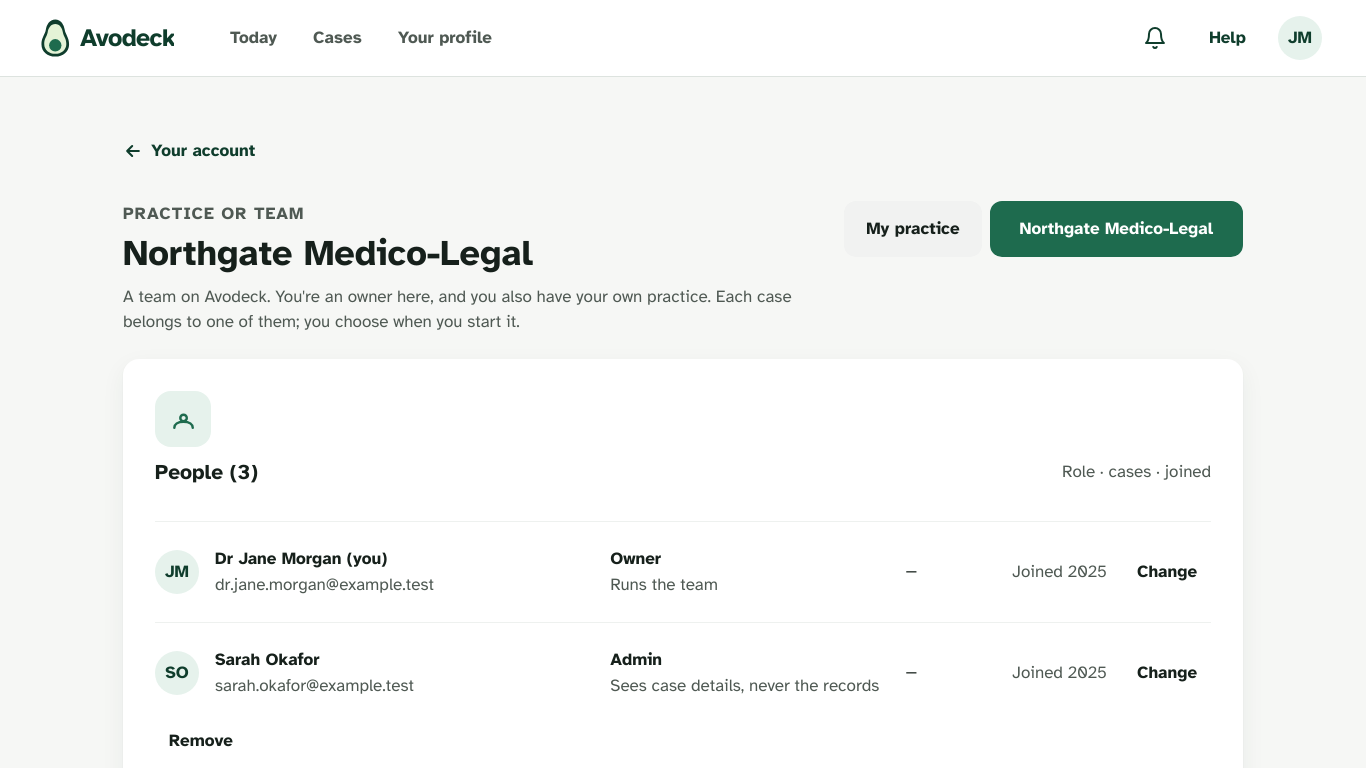
Test: removing a person asks first
Click the button with aria-label "Remove Sarah Okafor" at coordinates (201, 741), box [155,715,247,767]
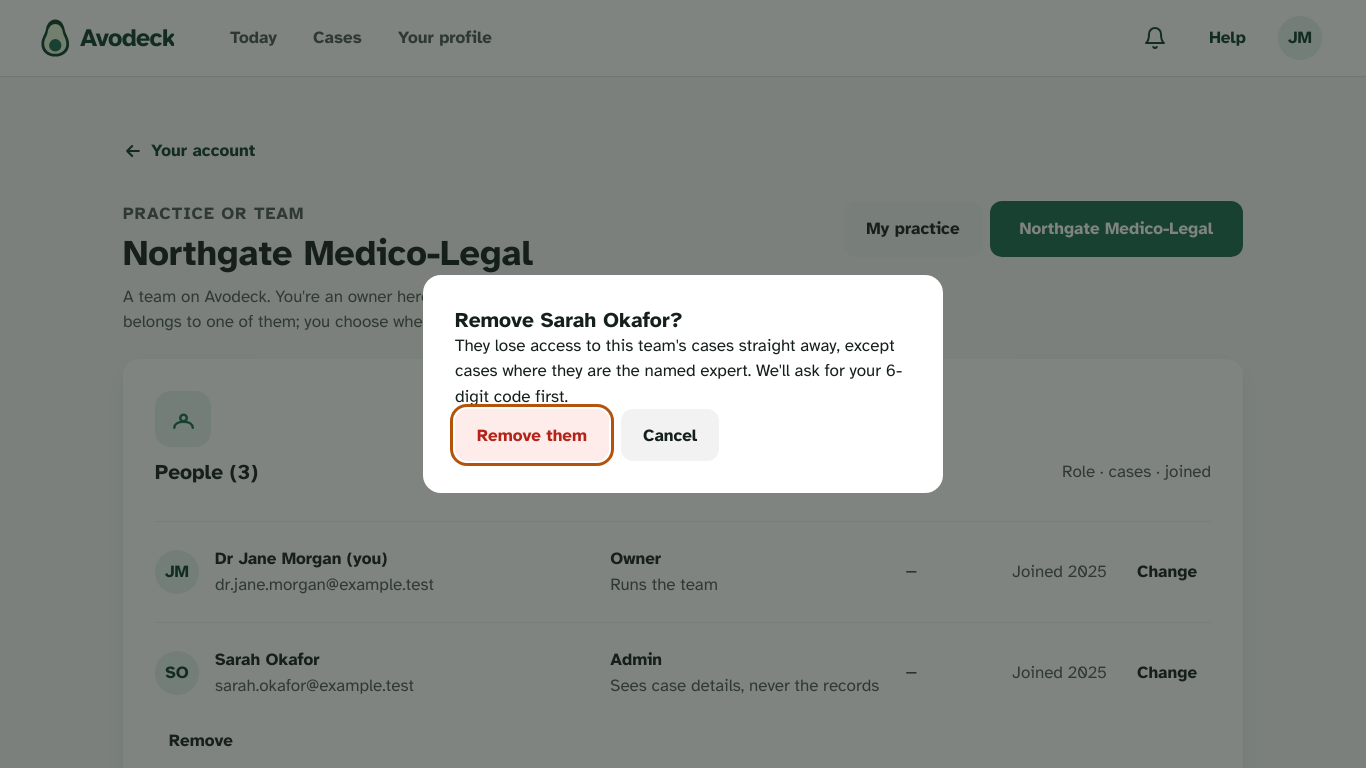
Click the button "Remove them" at coordinates (532, 435), box [455,409,609,461]
(page scrolled)
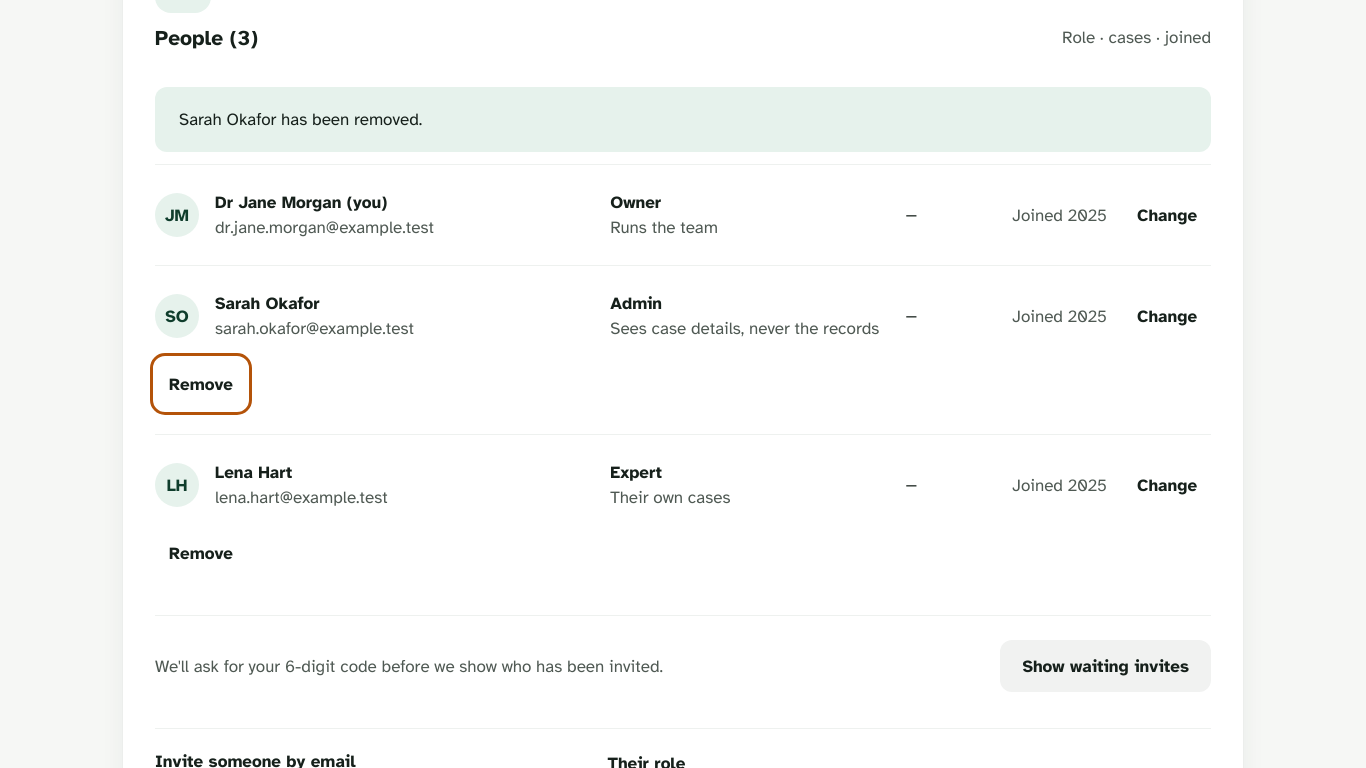
Check: the text "Sarah Okafor has been removed." is shown, box [179,109,422,130]
